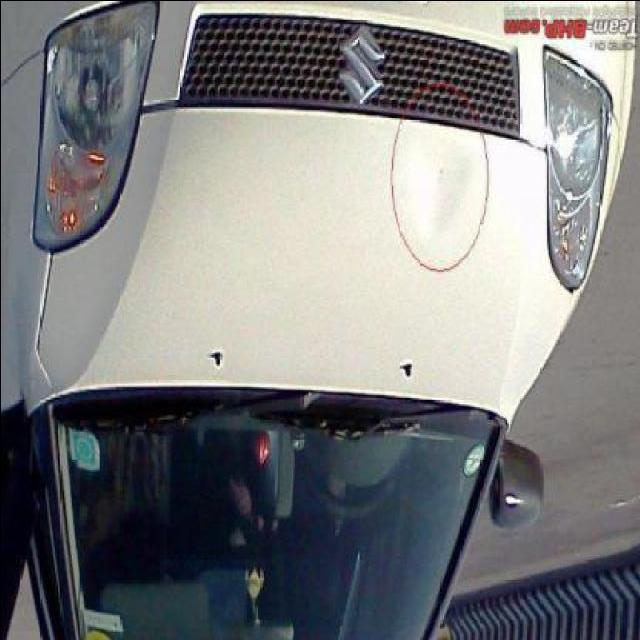bonnet-dent: (127, 54, 546, 403)
